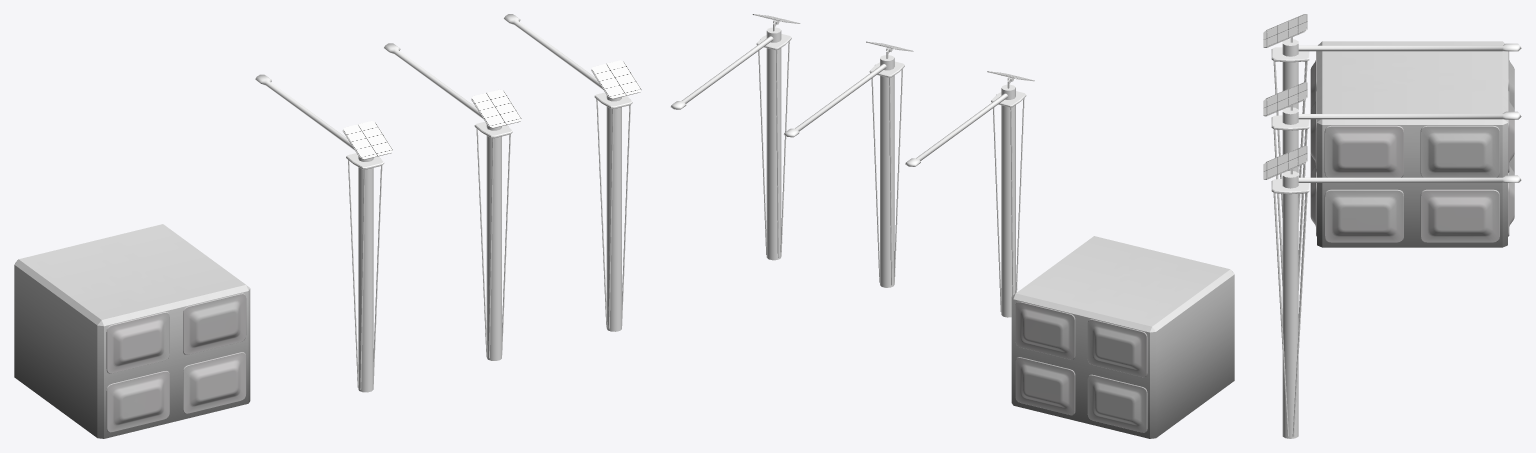
The model's file is let_7.FBX.
3 views of the same model, side by side, from view 1: azimuth 30°, elevation 25°; view 2: azimuth 150°, elevation 25°; view 3: azimuth 270°, elevation 25° (orthographic). The views are drawn at different scales.
Visible parts, largest first — view 1: Box011, Line010, Line008, Line009; view 2: Box011, Line010, Line009, Line008; view 3: Box011, Line010, Line008, Line009.
Boxes of the visible parts, x1=… form: Box011: x1=14, y1=224, x2=250, y2=438; Line010: x1=503, y1=14, x2=641, y2=331; Line008: x1=255, y1=74, x2=392, y2=392; Line009: x1=384, y1=43, x2=521, y2=360; Box011: x1=1011, y1=236, x2=1234, y2=438; Line010: x1=670, y1=14, x2=800, y2=260; Line009: x1=783, y1=41, x2=913, y2=287; Line008: x1=905, y1=71, x2=1034, y2=317; Box011: x1=1310, y1=41, x2=1514, y2=247; Line010: x1=1263, y1=145, x2=1521, y2=438; Line008: x1=1263, y1=14, x2=1521, y2=221; Line009: x1=1263, y1=82, x2=1521, y2=290.
Size of the model in its own units: 16.49 by 7.89 by 6.54.
